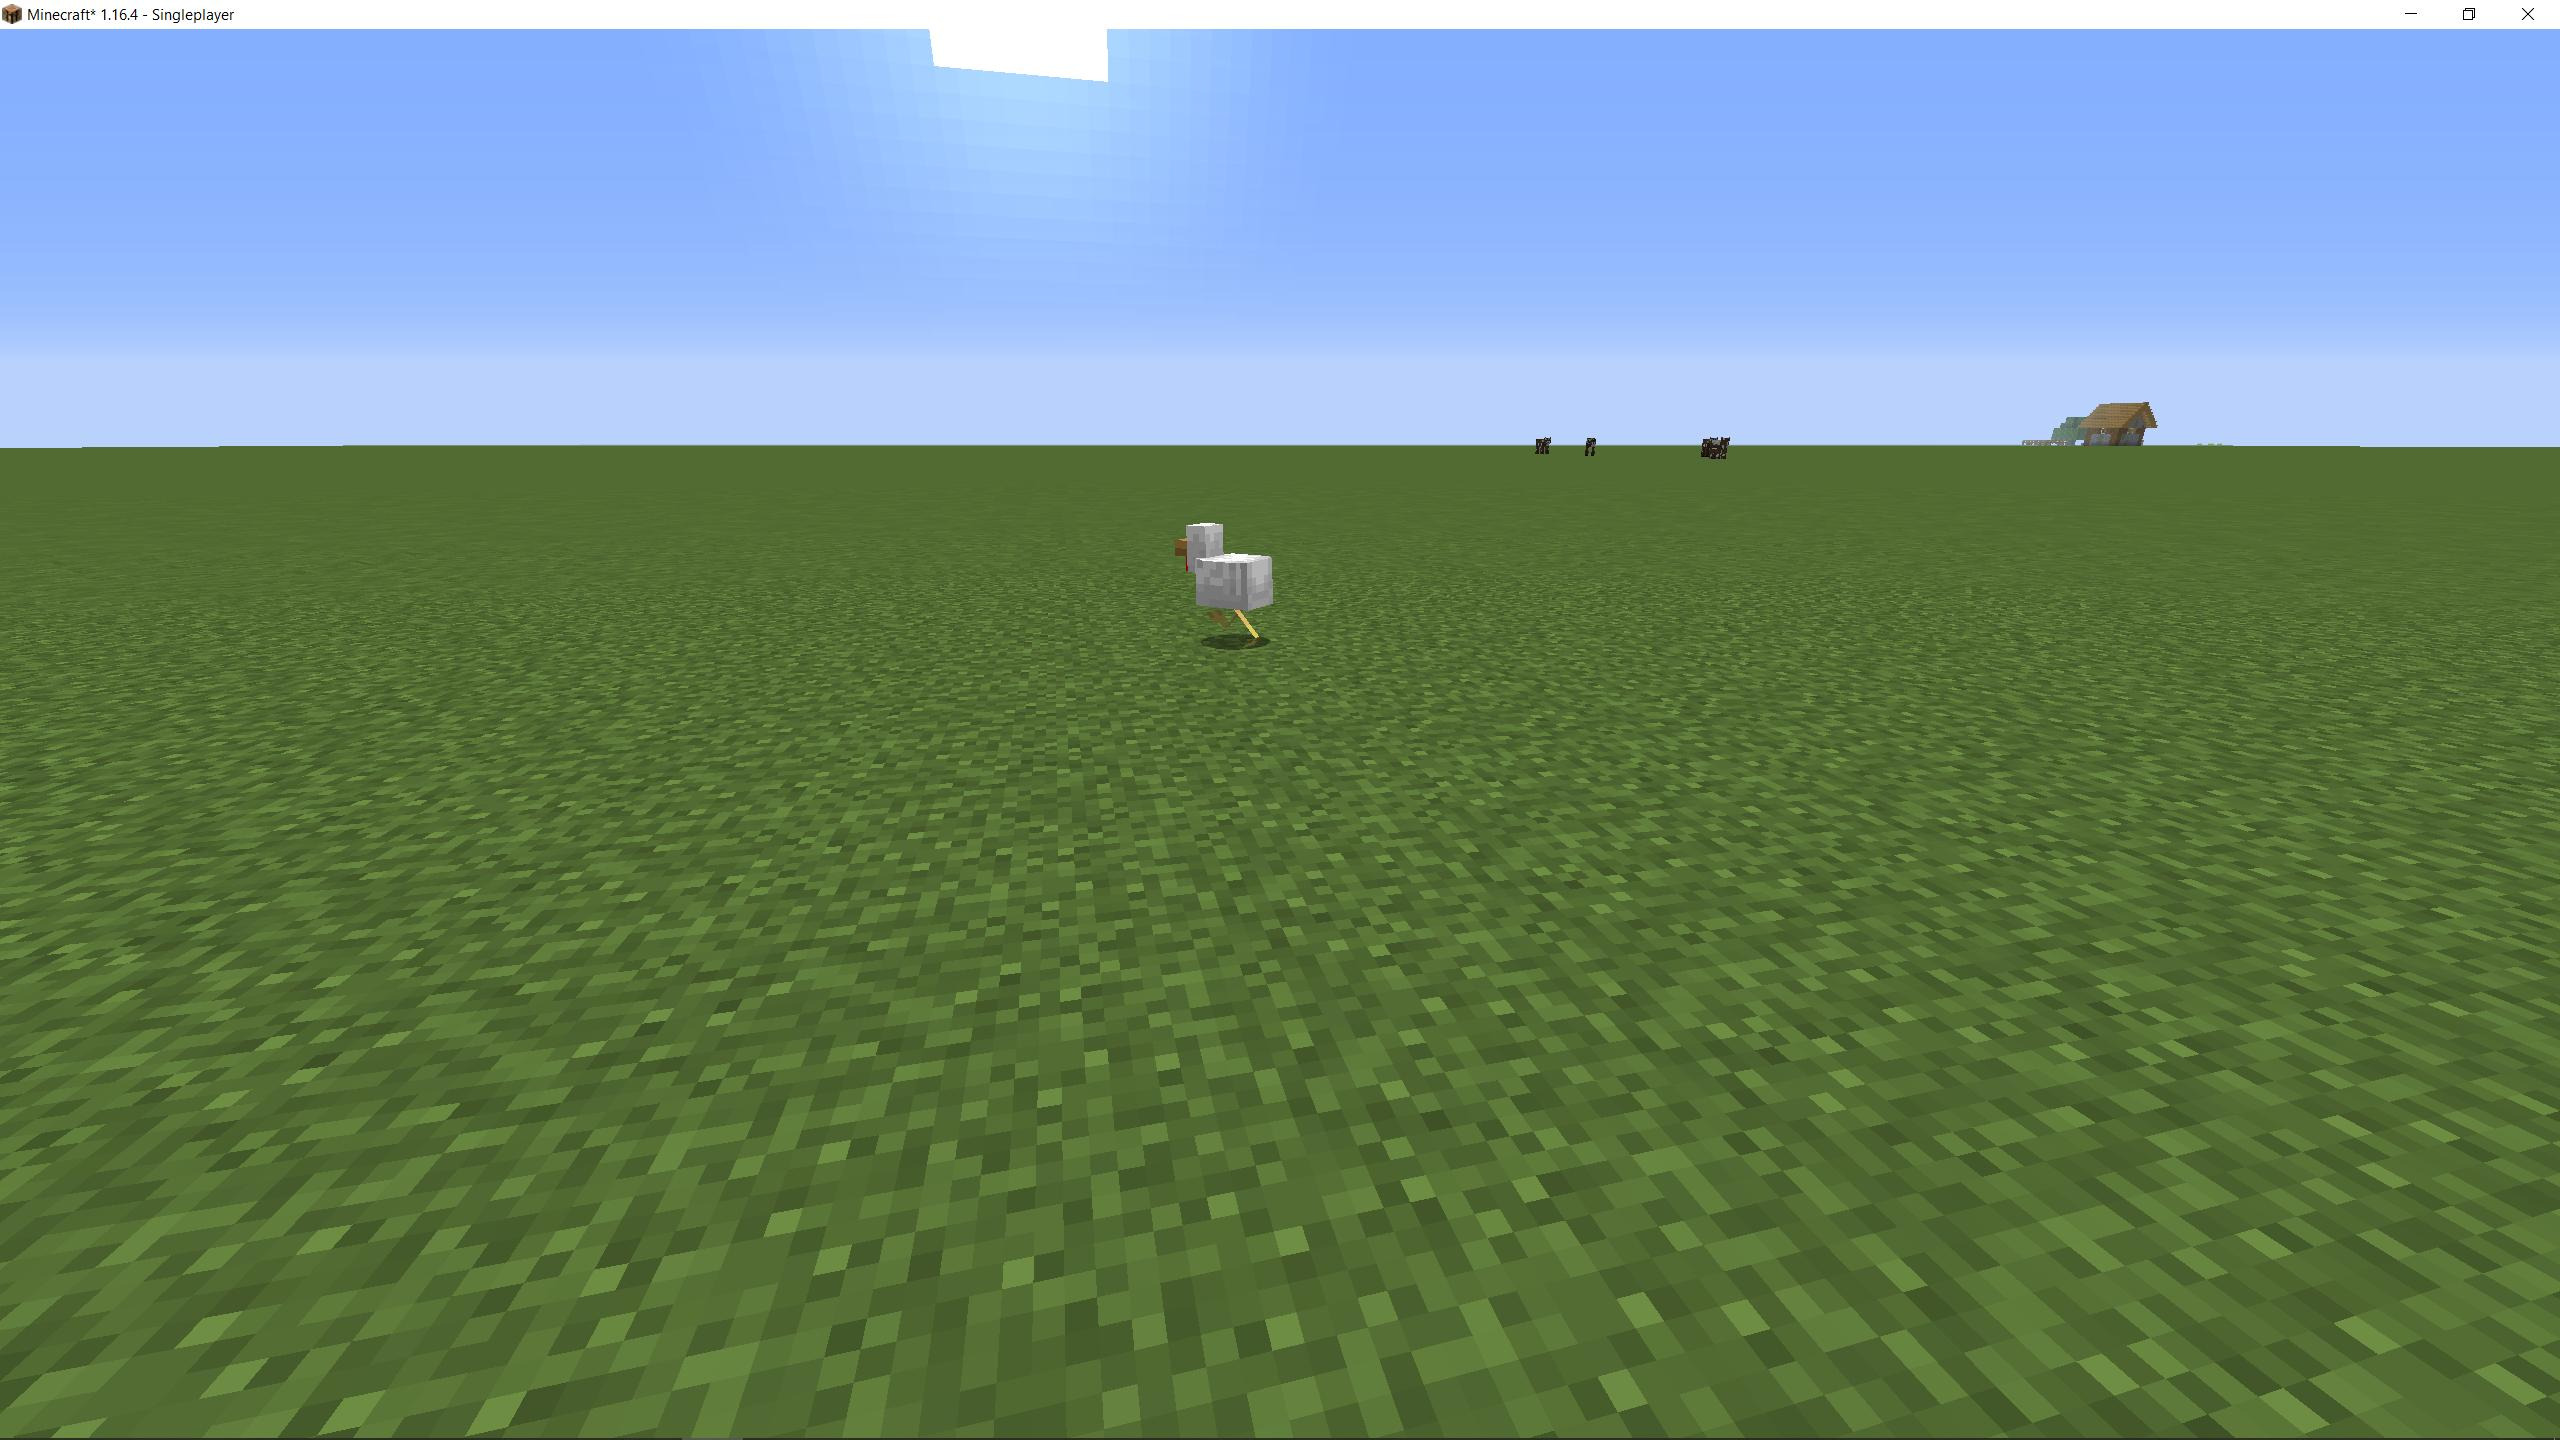chicken: (1175, 513, 1273, 656)
